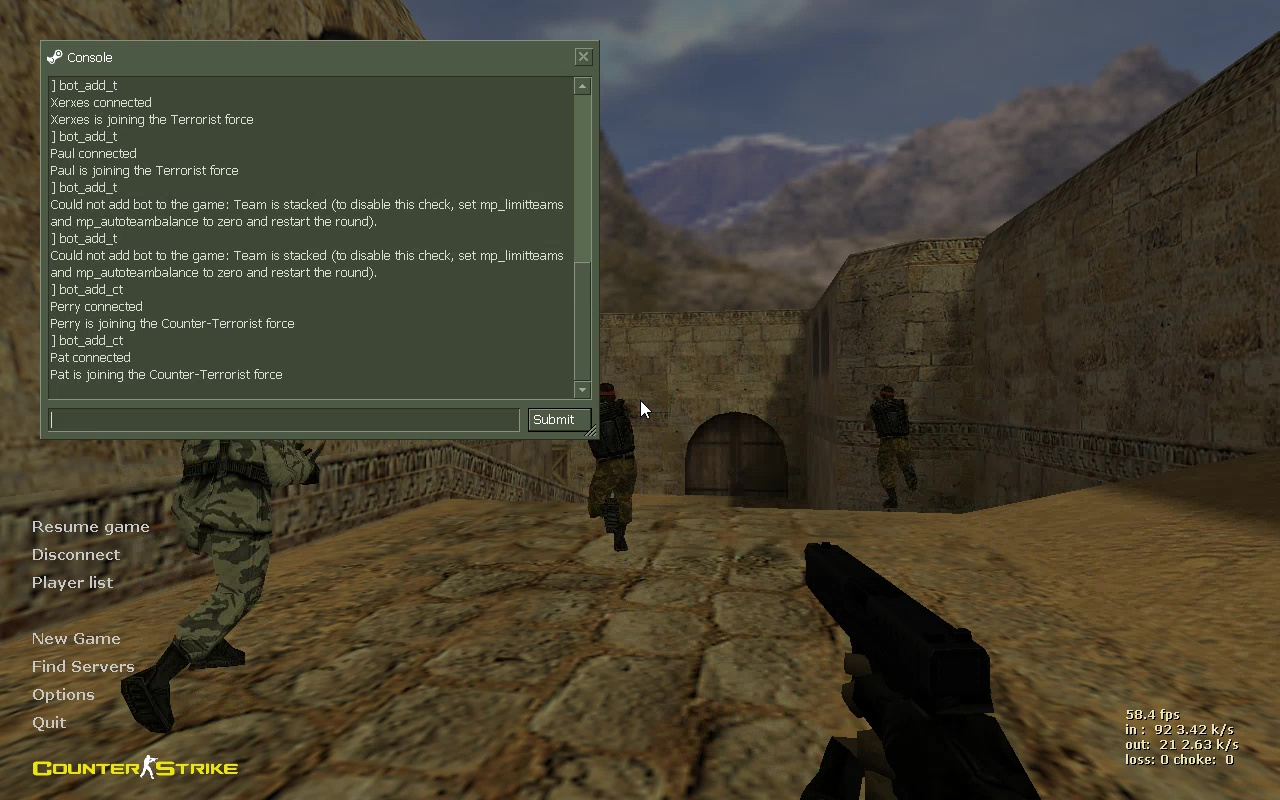terr1: (565, 391, 643, 553), (846, 387, 927, 509)
